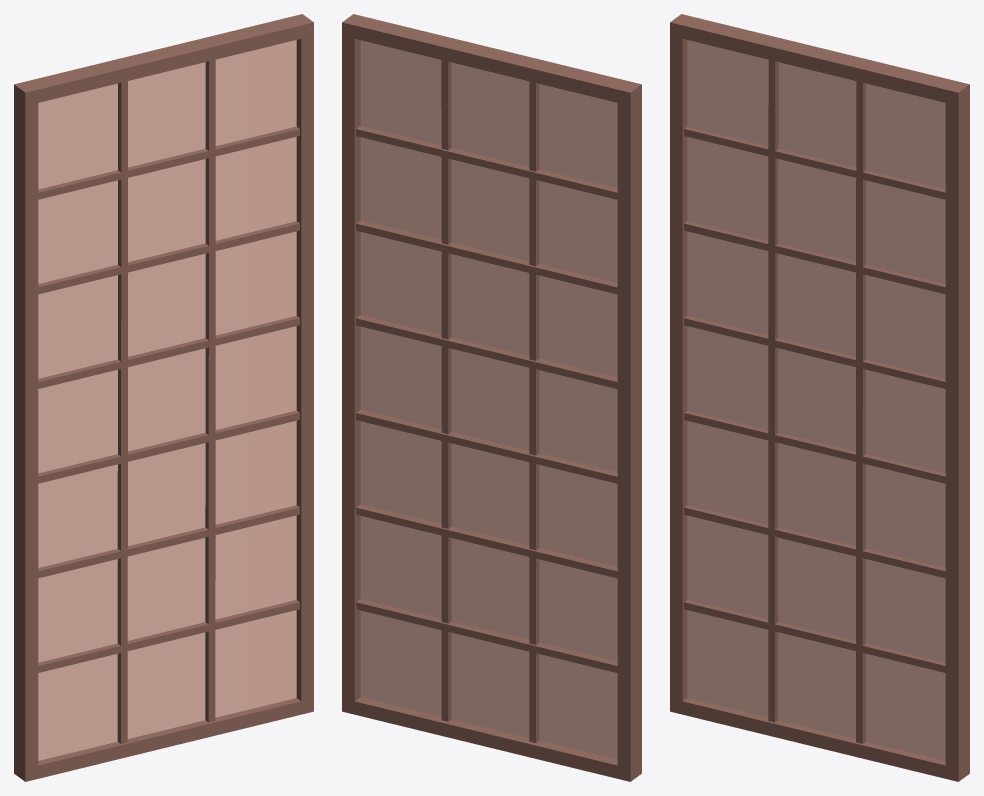
The model's file is window_039.glb.
3 renders of one model, left to right at view 1: azimuth 30°, elevation 25°; view 2: azimuth 150°, elevation 25°; view 3: azimuth 330°, elevation 25°, orthographic.
Visible parts, largest first — view 1: window_039; view 2: window_039; view 3: window_039.
Boxes of the visible parts, box(x1,y1,x2,y2) form: window_039: box(14, 14, 313, 781); window_039: box(342, 14, 641, 781); window_039: box(670, 14, 969, 781).
Size of the model in its own units: 1.21 by 2.76 by 0.0831.
1 material, 1 textured.
